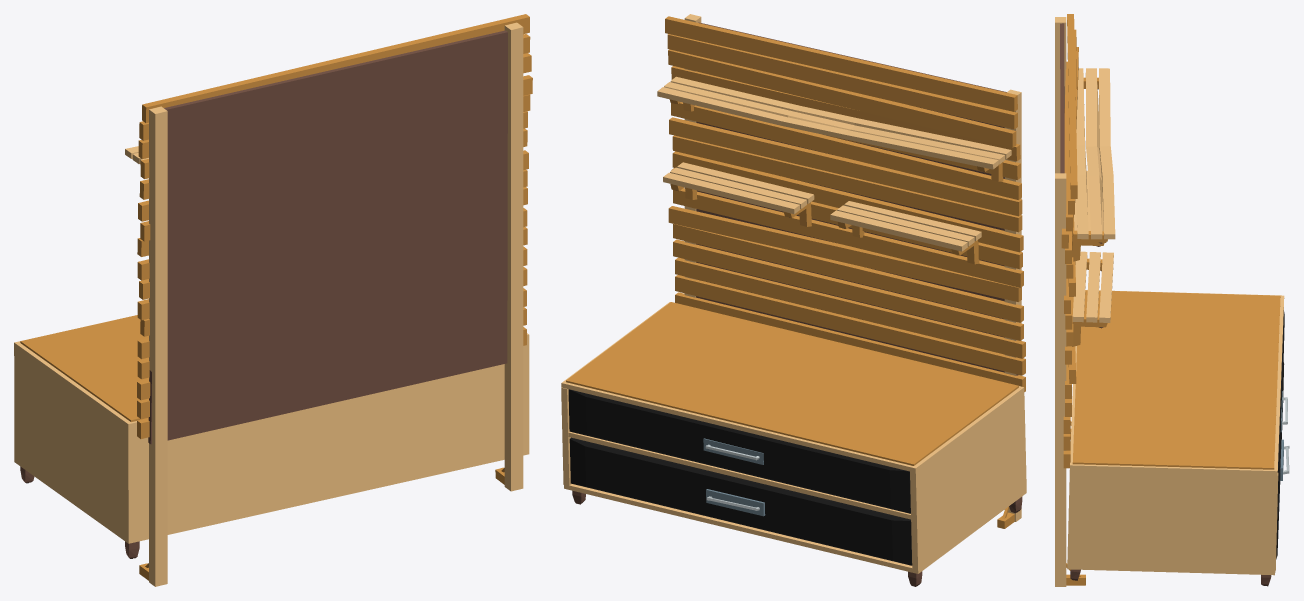
The model's file is Brown Barnes Wood Shelf.glb.
The picture shows the model from 3 angles, left to right: view 1: azimuth 30°, elevation 25°; view 2: azimuth 150°, elevation 25°; view 3: azimuth 270°, elevation 25°; orthographic projection. The views are drawn at different scales.
Parts seen in each view (by area): view 1: group2015949752, group1210846258, group1261917229; view 2: group1210846258, group1261917229, group908110299, group771803549, group1356998999, group2015949752; view 3: group1210846258, group1261917229, group908110299, group771803549, group2015949752, group1356998999.
Boxes of the visible parts, x1=… form: group2015949752: x1=148, y1=30, x2=507, y2=444; group1210846258: x1=14, y1=315, x2=529, y2=558; group1261917229: x1=137, y1=14, x2=532, y2=586; group1210846258: x1=561, y1=302, x2=1026, y2=586; group1261917229: x1=665, y1=14, x2=1025, y2=528; group908110299: x1=657, y1=76, x2=1011, y2=181; group771803549: x1=663, y1=162, x2=814, y2=226; group1356998999: x1=830, y1=201, x2=981, y2=264; group2015949752: x1=696, y1=22, x2=1018, y2=375; group1210846258: x1=1067, y1=290, x2=1289, y2=586; group1261917229: x1=1055, y1=14, x2=1085, y2=586; group908110299: x1=1072, y1=68, x2=1115, y2=261; group771803549: x1=1072, y1=251, x2=1113, y2=346; group2015949752: x1=1060, y1=23, x2=1064, y2=173; group1356998999: x1=1074, y1=170, x2=1107, y2=246.
Size of the model in its own units: 2.92 by 3.31 by 1.67.
